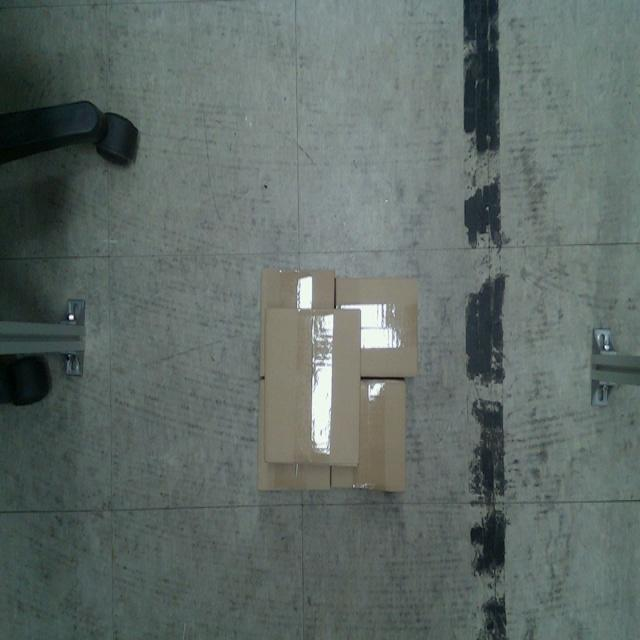box: (262, 307, 362, 468)
